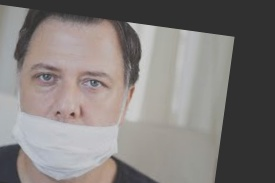mask_weared_incorrect: (18, 9, 126, 176)
